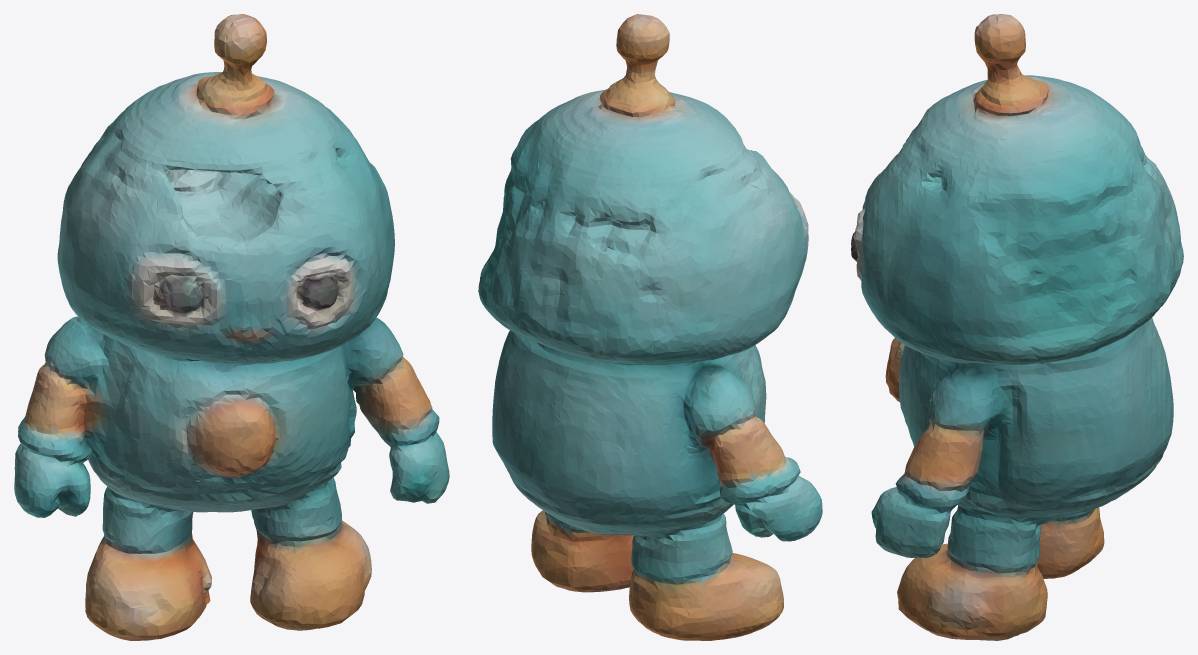
Rendered from robot.glb.
3 views of the same model, side by side, from view 1: azimuth 30°, elevation 25°; view 2: azimuth 150°, elevation 25°; view 3: azimuth 270°, elevation 25° (orthographic).
Visible parts, largest first — view 1: geometry_0; view 2: geometry_0; view 3: geometry_0.
Part boxes in pixels (left/top/right/bottom): geometry_0: left=14, top=14, right=449, bottom=640; geometry_0: left=478, top=14, right=822, bottom=640; geometry_0: left=851, top=14, right=1183, bottom=640.
Bounding box in the file's own units: 0.6383 × 1 × 0.5169.
